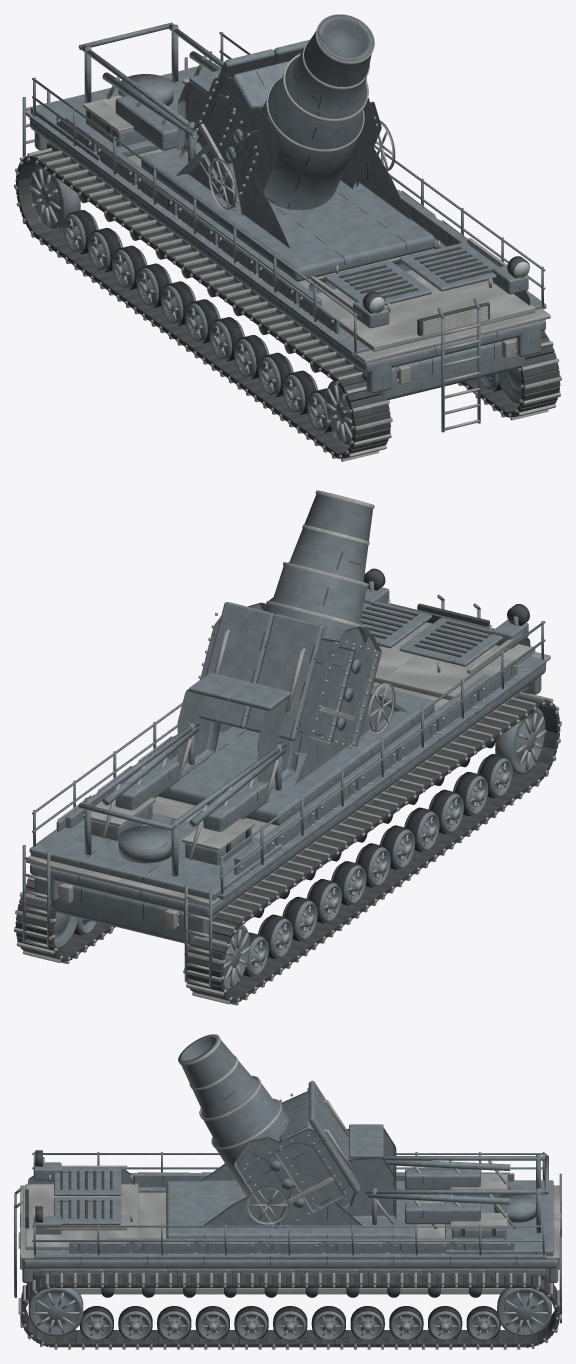
File: pgf-legacy60.glb
3 views of the same model, one above another, from view 1: azimuth 30°, elevation 25°; view 2: azimuth 150°, elevation 25°; view 3: azimuth 270°, elevation 25° (orthographic). The views are drawn at different scales.
Parts seen in each view (by area): view 1: running-gear-panel-shadow-batch, carriage-graphite-painted-steel-batch, chassis-graphite-painted-steel-batch, barrel-tube-exterior-batch, platform-graphite-painted-steel-batch, running-gear-cast-edge-steel-batch, cradle-graphite-painted-steel-batch, running-gear-graphite-painted-steel-batch, engine-cast-edge-steel-batch, engine-graphite-painted-steel-batch, mechanisms-graphite-painted-steel-batch, running-gear-dark-running-bands-batch (+6 smaller); view 2: platform-graphite-painted-steel-batch, cradle-graphite-painted-steel-batch, running-gear-panel-shadow-batch, chassis-graphite-painted-steel-batch, mechanisms-graphite-painted-steel-batch, running-gear-cast-edge-steel-batch, carriage-graphite-painted-steel-batch, running-gear-graphite-painted-steel-batch, barrel-tube-exterior-batch, engine-graphite-painted-steel-batch, engine-cast-edge-steel-batch, running-gear-dark-running-bands-batch (+6 smaller); view 3: chassis-graphite-painted-steel-batch, running-gear-panel-shadow-batch, platform-graphite-painted-steel-batch, running-gear-graphite-painted-steel-batch, mechanisms-graphite-painted-steel-batch, cradle-graphite-painted-steel-batch, carriage-graphite-painted-steel-batch, chassis-cast-edge-steel-batch, barrel-tube-exterior-batch, running-gear-cast-edge-steel-batch, engine-graphite-painted-steel-batch, engine-cast-edge-steel-batch (+7 smaller).
Part boxes in pixels (<box>): running-gear-panel-shadow-batch: <box>15,150,560,458</box>; carriage-graphite-painted-steel-batch: <box>141,145,434,281</box>; chassis-graphite-painted-steel-batch: <box>30,115,545,399</box>; barrel-tube-exterior-batch: <box>262,14,373,210</box>; platform-graphite-painted-steel-batch: <box>22,32,546,355</box>; running-gear-cast-edge-steel-batch: <box>14,148,561,461</box>; cradle-graphite-painted-steel-batch: <box>192,40,381,216</box>; running-gear-graphite-painted-steel-batch: <box>30,164,522,446</box>; engine-cast-edge-steel-batch: <box>311,238,535,430</box>; engine-graphite-painted-steel-batch: <box>308,242,530,432</box>; mechanisms-graphite-painted-steel-batch: <box>78,22,223,162</box>; running-gear-dark-running-bands-batch: <box>67,210,501,432</box>; platform-graphite-painted-steel-batch: <box>22,621,546,987</box>; cradle-graphite-painted-steel-batch: <box>199,602,381,756</box>; running-gear-panel-shadow-batch: <box>15,695,560,1003</box>; chassis-graphite-painted-steel-batch: <box>30,661,545,944</box>; mechanisms-graphite-painted-steel-batch: <box>78,672,301,876</box>; running-gear-cast-edge-steel-batch: <box>14,692,561,1005</box>; carriage-graphite-painted-steel-batch: <box>157,685,434,825</box>; running-gear-graphite-painted-steel-batch: <box>53,708,545,990</box>; barrel-tube-exterior-batch: <box>265,490,372,640</box>; engine-graphite-painted-steel-batch: <box>360,580,530,666</box>; engine-cast-edge-steel-batch: <box>374,600,535,700</box>; running-gear-dark-running-bands-batch: <box>74,754,508,976</box>; chassis-graphite-painted-steel-batch: <box>22,1173,558,1284</box>; running-gear-panel-shadow-batch: <box>20,1275,559,1347</box>; platform-graphite-painted-steel-batch: <box>32,1152,561,1323</box>; running-gear-graphite-painted-steel-batch: <box>28,1287,551,1340</box>; mechanisms-graphite-painted-steel-batch: <box>346,1124,548,1233</box>; cradle-graphite-painted-steel-batch: <box>234,1080,359,1228</box>; carriage-graphite-painted-steel-batch: <box>166,1163,414,1238</box>; chassis-cast-edge-steel-batch: <box>20,1172,561,1294</box>; barrel-tube-exterior-batch: <box>178,1034,289,1196</box>; running-gear-cast-edge-steel-batch: <box>18,1232,561,1349</box>; engine-graphite-painted-steel-batch: <box>14,1157,134,1297</box>; engine-cast-edge-steel-batch: <box>14,1165,138,1295</box>.
Bounding box in the file's own units: 3.69 × 5.8 × 10.6.
6 materials, 6 textured.
